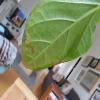Bell_pepper leaf spot: (21, 1, 91, 71)
